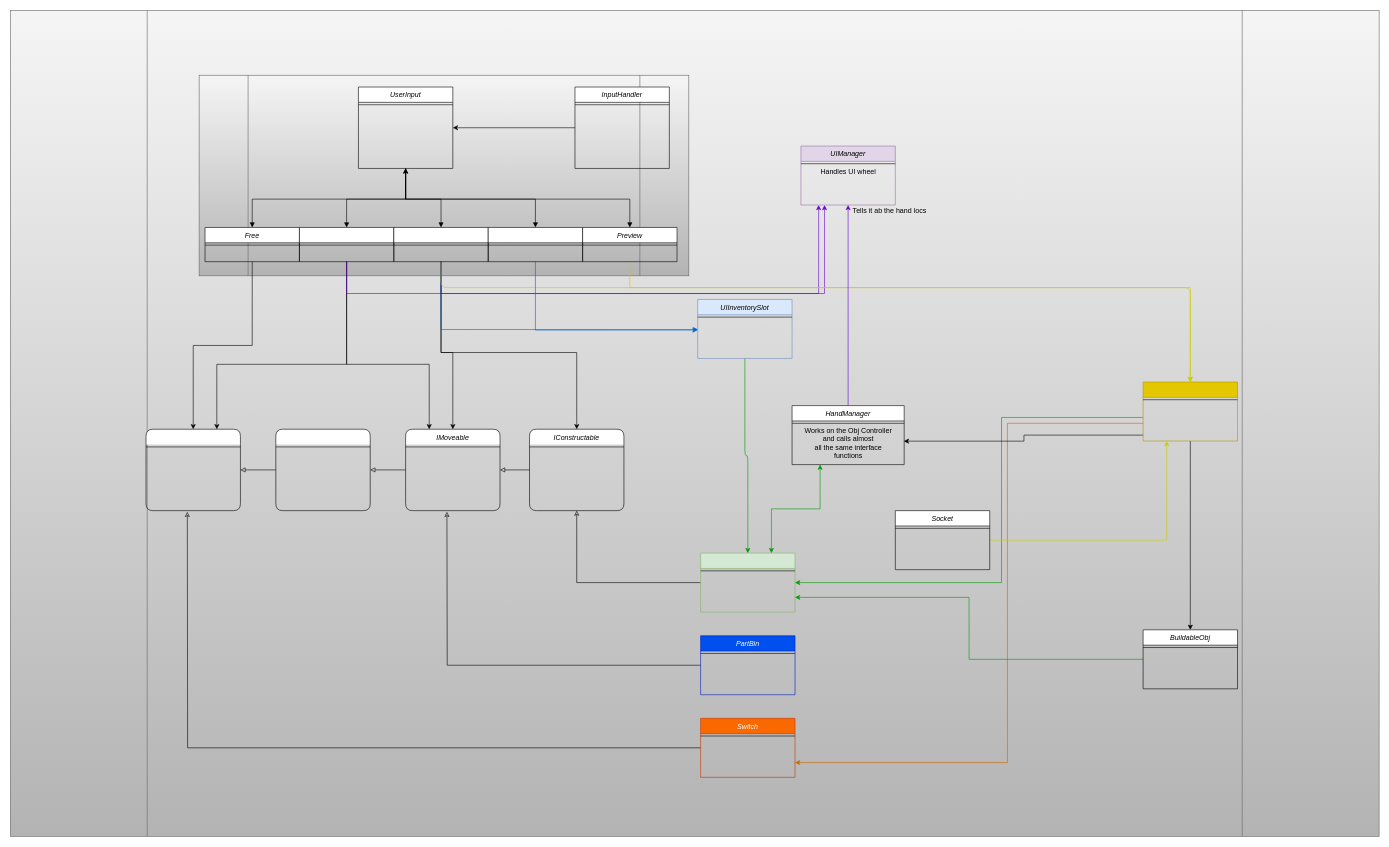
This 1389x847 diagram has some shape labels left out. The shapes that lost their labels are listed below. From the top down, each one's box as (x1, y1, x2, y2) in pixels, then its label:
(299, 227, 394, 262): Rotate
(393, 227, 488, 262): Displace
(488, 227, 583, 262): Ui
(1143, 381, 1238, 441): PreviewManger
(145, 429, 240, 511): IInteractable
(275, 429, 370, 511): IHighlightable
(700, 553, 795, 612): ObjectController
